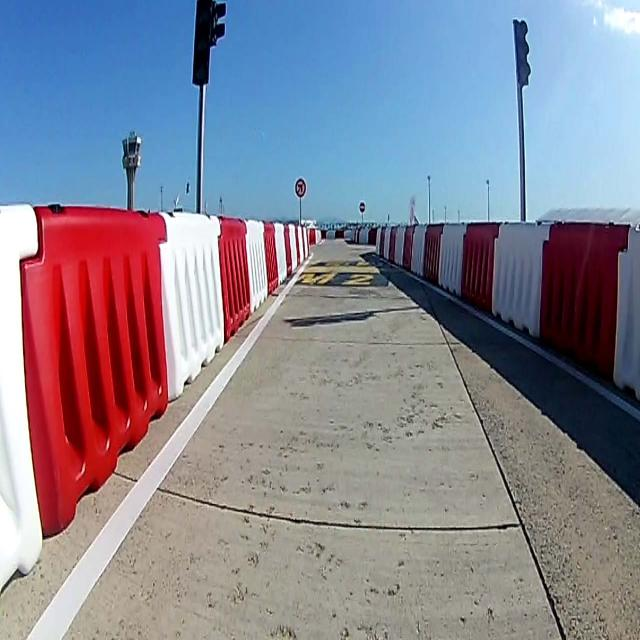girisyok: (359, 202, 365, 213)
soladonulmez: (296, 178, 306, 197)
